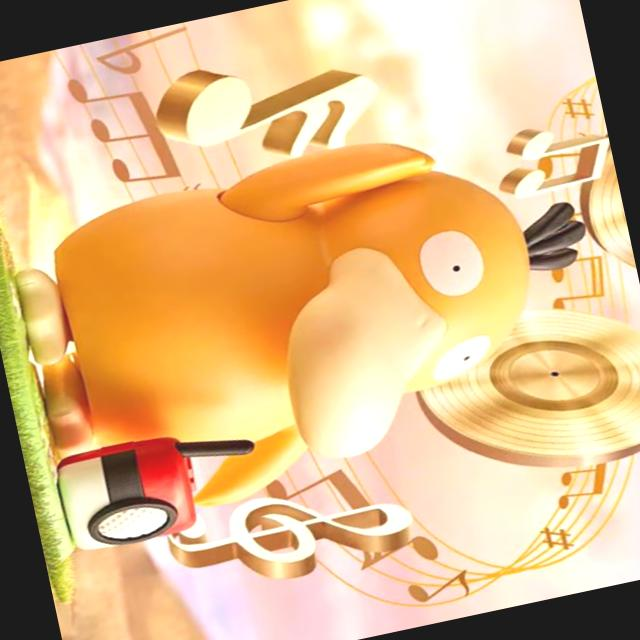Duck: (6, 98, 593, 494)
